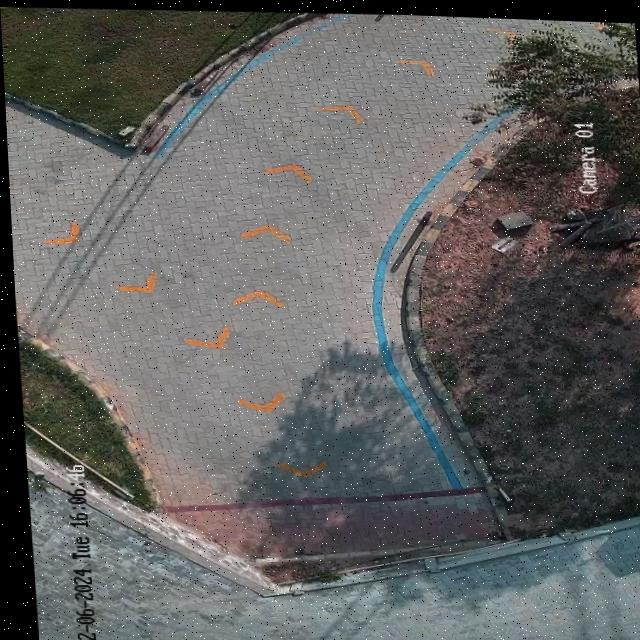No Car: (0, 6, 640, 640)
